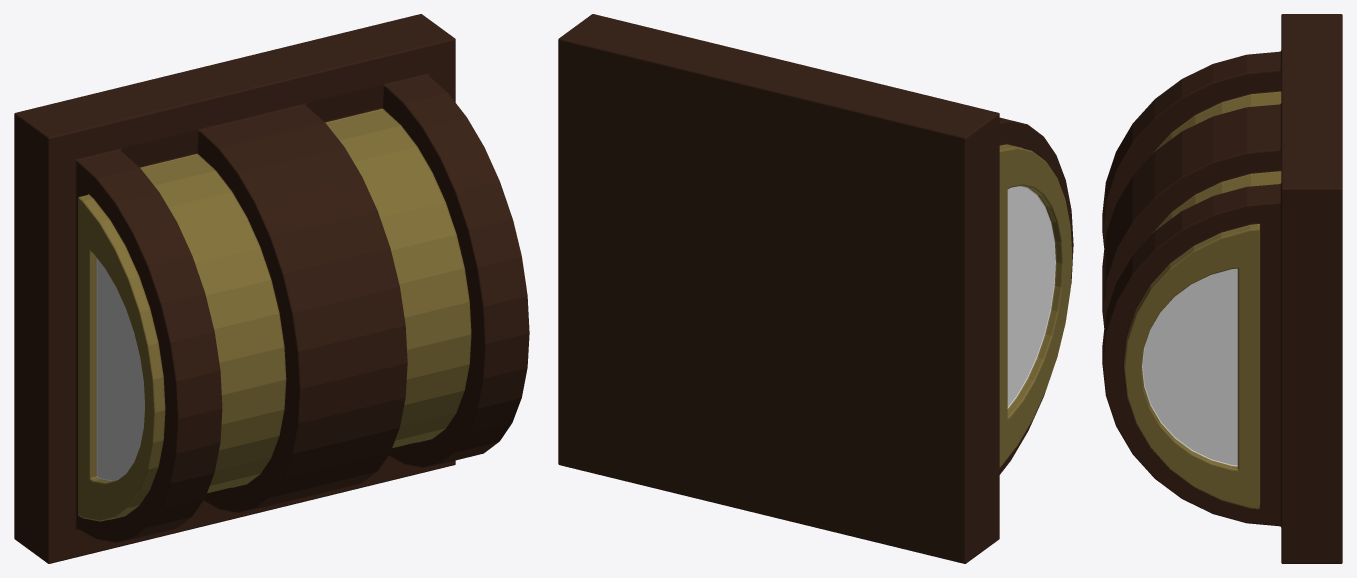
Rendered from 3D_Lever_Base.fbx.
3 renders of one model, left to right at view 1: azimuth 30°, elevation 25°; view 2: azimuth 150°, elevation 25°; view 3: azimuth 270°, elevation 25°, orthographic. The views are drawn at different scales.
Visible parts, largest first — view 1: Cylinder; view 2: Cylinder; view 3: Cylinder.
Part boxes in pixels (left/top/right/bottom): Cylinder: left=14, top=14, right=529, bottom=563; Cylinder: left=558, top=14, right=1073, bottom=563; Cylinder: left=1102, top=14, right=1342, bottom=563.
Bounding box in the file's own units: 232 × 232 × 134.
